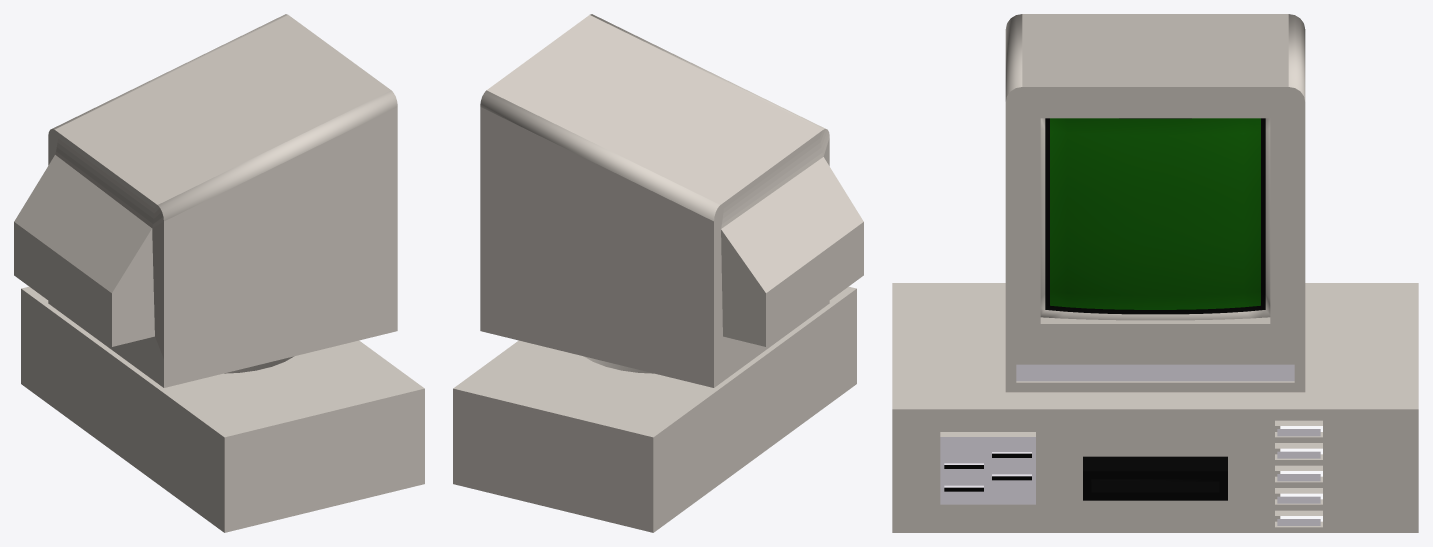
The model's file is Comp1.fbx.
3 renders of one model, left to right at view 1: azimuth 30°, elevation 25°; view 2: azimuth 150°, elevation 25°; view 3: azimuth 270°, elevation 25°, orthographic. The views are drawn at different scales.
Visible parts, largest first — view 1: Cube; view 2: Cube; view 3: Cube.
Boxes of the visible parts, x1=… form: Cube: x1=14, y1=14, x2=424, y2=532; Cube: x1=453, y1=14, x2=863, y2=532; Cube: x1=892, y1=14, x2=1418, y2=532.
Size of the model in its own units: 243 by 288 by 301.
